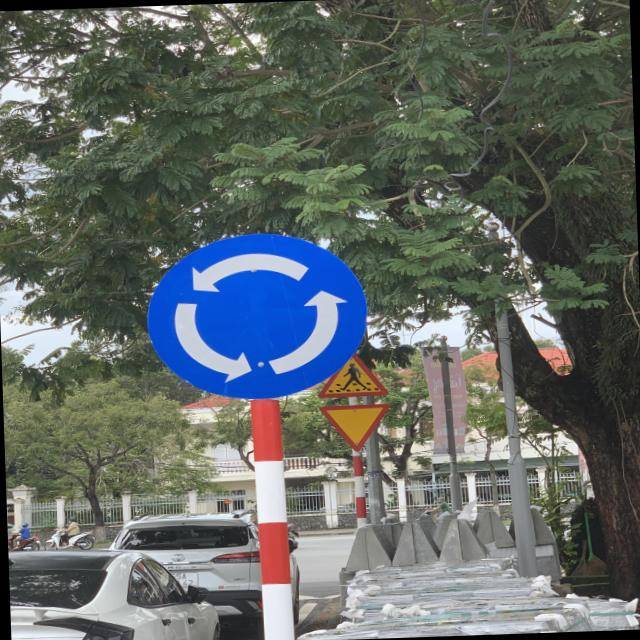Xe_Bus: (148, 228, 372, 406)
